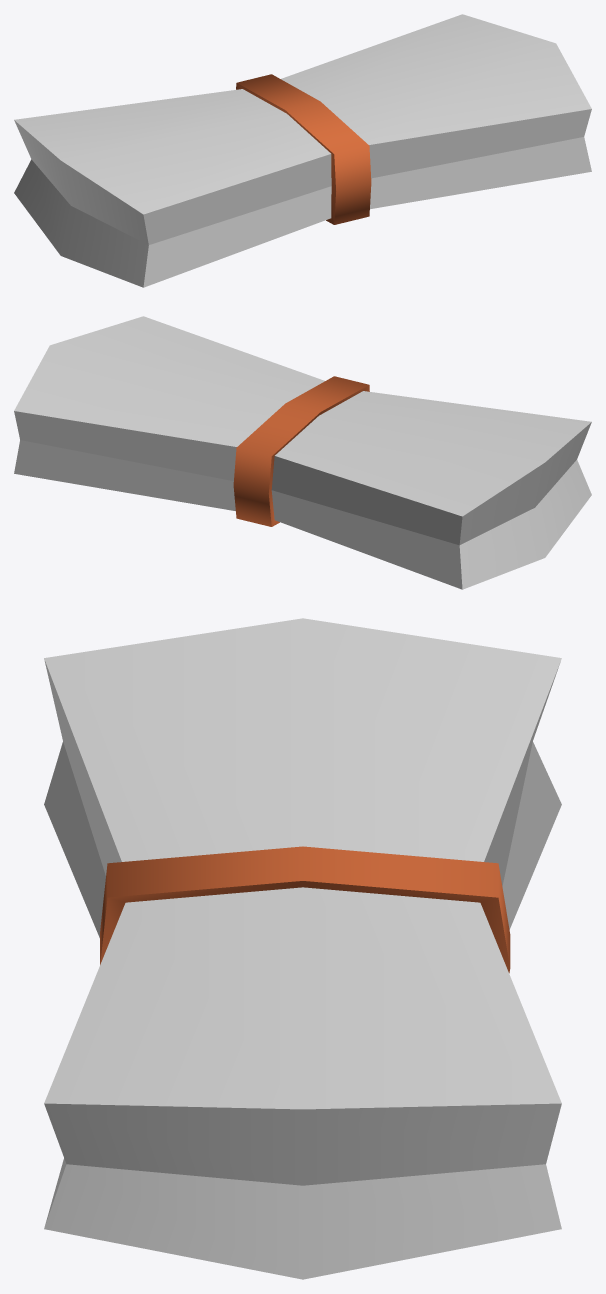
The model's file is PaperboyNewspaper.fbx.
The picture shows the model from 3 angles, top to bottom: view 1: azimuth 30°, elevation 25°; view 2: azimuth 150°, elevation 25°; view 3: azimuth 270°, elevation 25°; orthographic projection. The views are drawn at different scales.
Visible parts, largest first — view 1: Cube; view 2: Cube; view 3: Cube.
Part boxes in pixels (<box>): Cube: <box>14,14,591,287</box>; Cube: <box>14,316,591,589</box>; Cube: <box>44,618,561,1279</box>.
Size of the model in its own units: 221 by 40.69 by 100.
